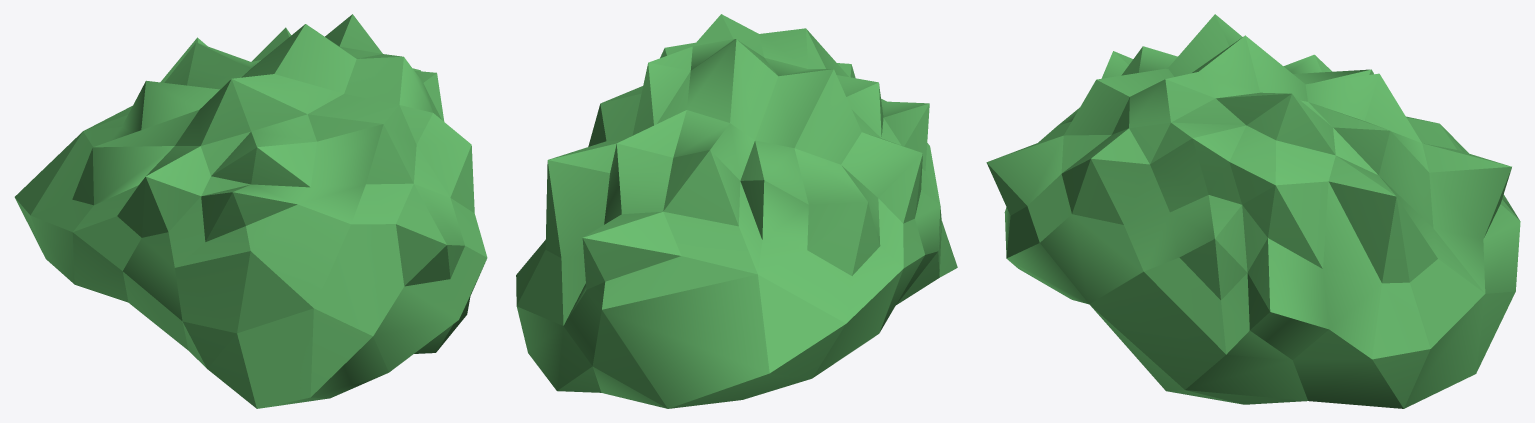
The model's file is bush_001.glb.
3 renders of one model, left to right at view 1: azimuth 30°, elevation 25°; view 2: azimuth 150°, elevation 25°; view 3: azimuth 270°, elevation 25°, orthographic. The views are drawn at different scales.
Parts seen in each view (by area): view 1: bush_001; view 2: bush_001; view 3: bush_001.
Part boxes in pixels (bbox=[...]): bush_001: bbox=[14, 14, 487, 408]; bush_001: bbox=[516, 14, 957, 408]; bush_001: bbox=[986, 14, 1520, 408].
Bounding box in the file's own units: 1.97 × 1.58 × 2.43.
1 material, 1 textured.
